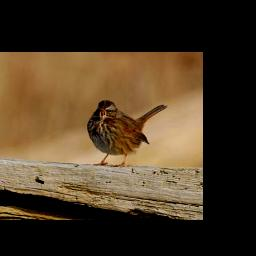Sparrow: (88, 99, 170, 167)
